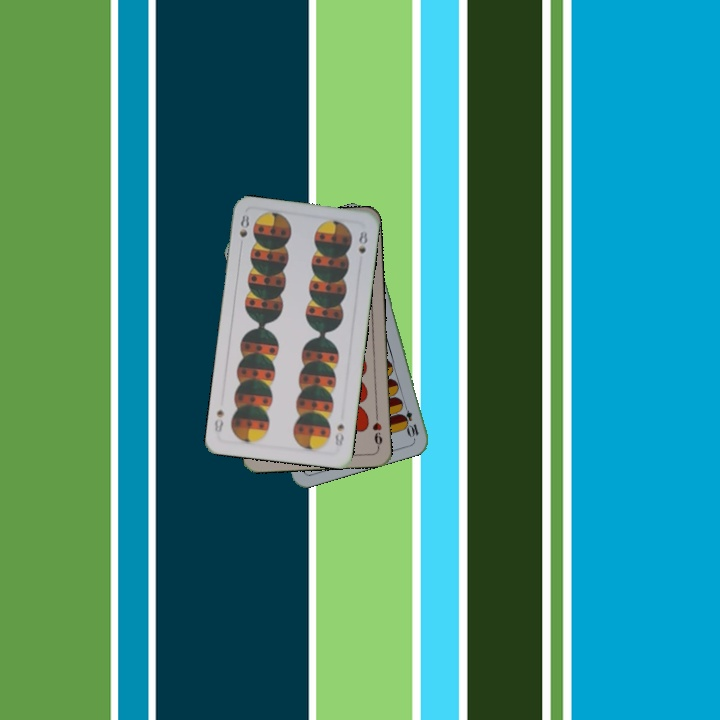E10: (398, 399, 421, 440)
H9: (368, 410, 385, 450)
S8: (235, 210, 252, 240), (331, 419, 347, 449)
